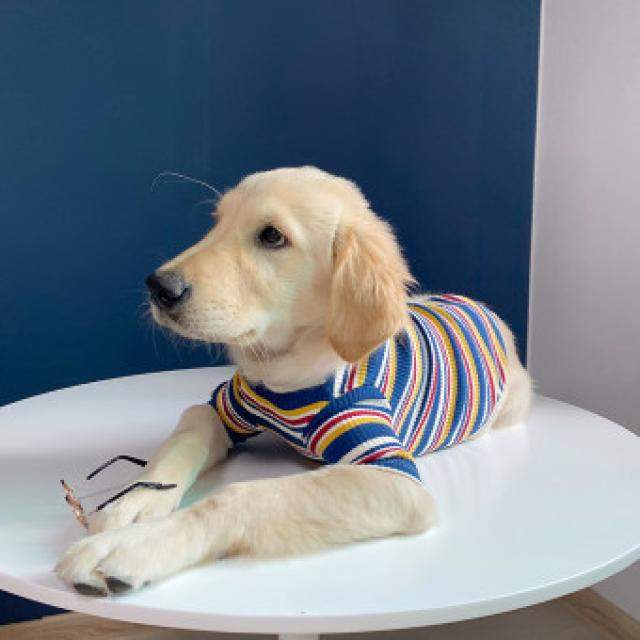cloth: (210, 295, 506, 481)
